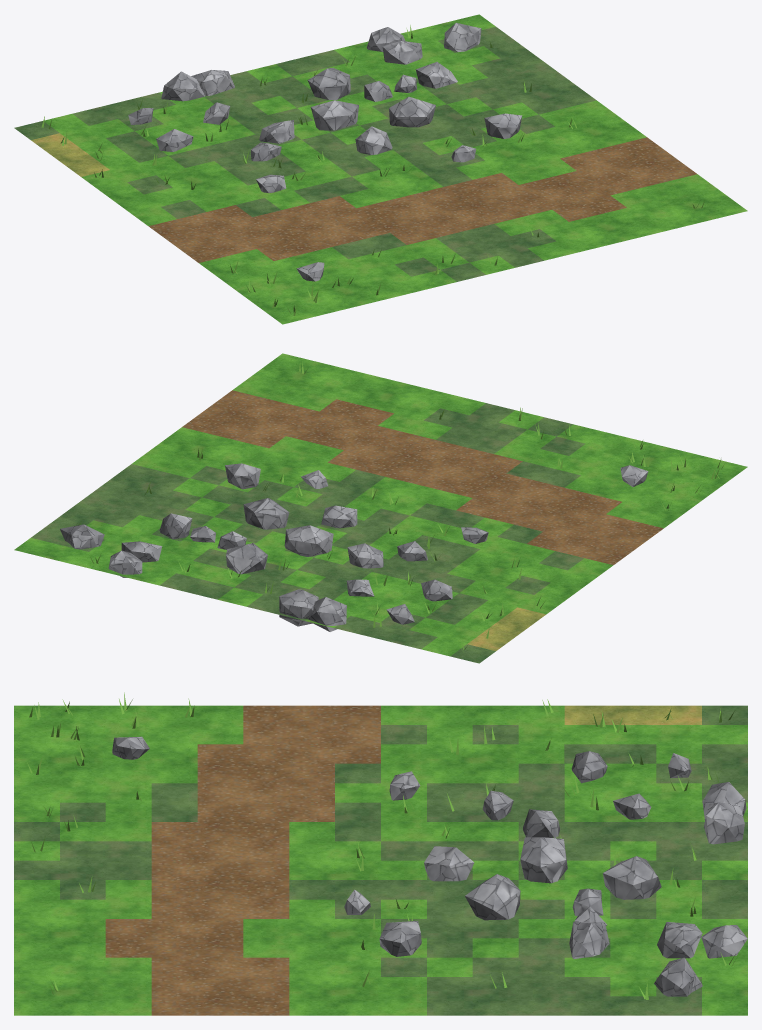
The model's file is chunk_8_15.glb.
3 renders of one model, top to bottom at view 1: azimuth 30°, elevation 25°; view 2: azimuth 150°, elevation 25°; view 3: azimuth 270°, elevation 25°, orthographic. The views are drawn at different scales.
Visible parts, largest first — view 1: chunk_8_15; view 2: chunk_8_15; view 3: chunk_8_15.
Part boxes in pixels (x1,y1,x2,y2): chunk_8_15: [14, 14, 747, 324]; chunk_8_15: [14, 353, 747, 663]; chunk_8_15: [14, 692, 747, 1015].
Bounding box in the file's own units: 16 × 1.33 × 16.
Materials: 6 (5 with a texture image).
